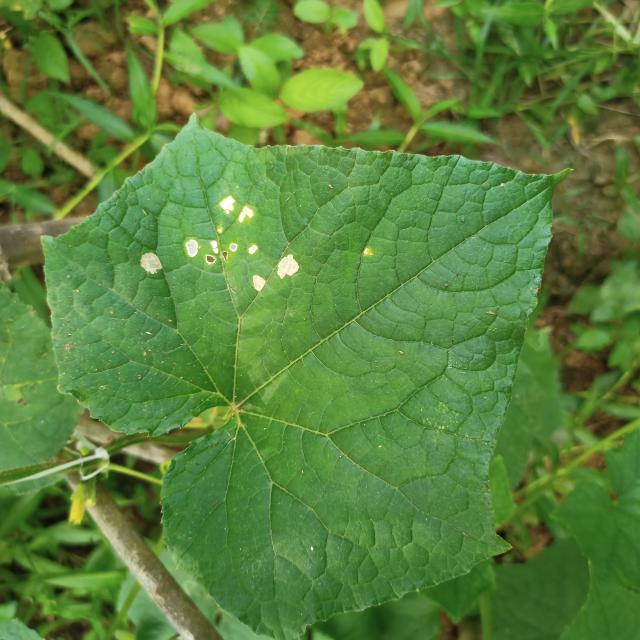disease_cucumber: (141, 196, 300, 294)
